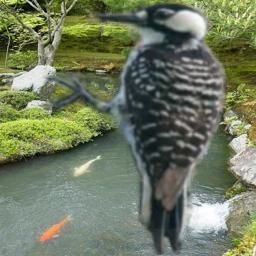Woodpecker: (40, 0, 233, 255)
